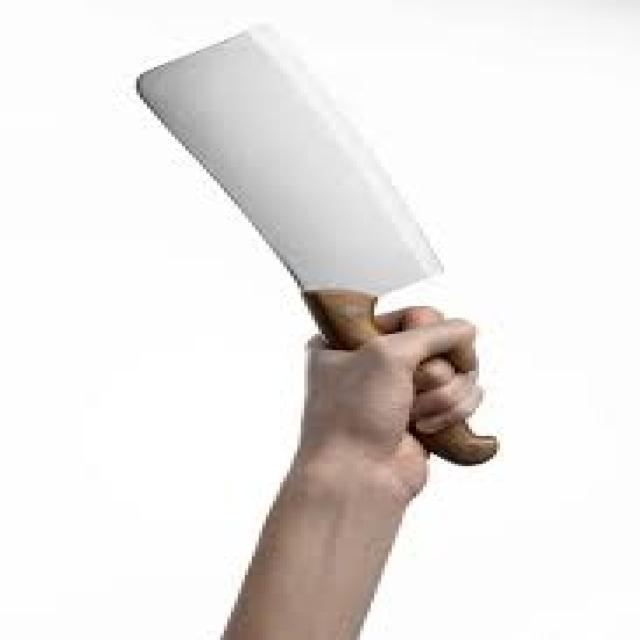Knife: (133, 19, 497, 466)
